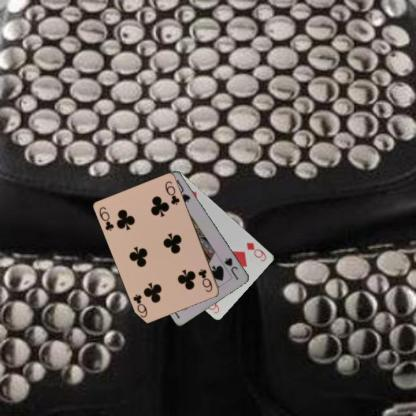6c: (96, 204, 115, 233), (196, 266, 214, 294)
6d: (244, 240, 268, 263)
Js: (222, 254, 240, 282)
